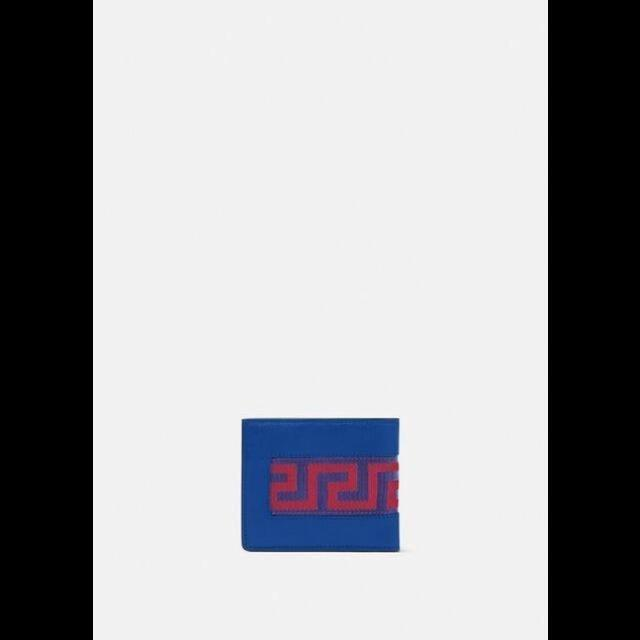Wallet: (235, 409, 408, 557)
